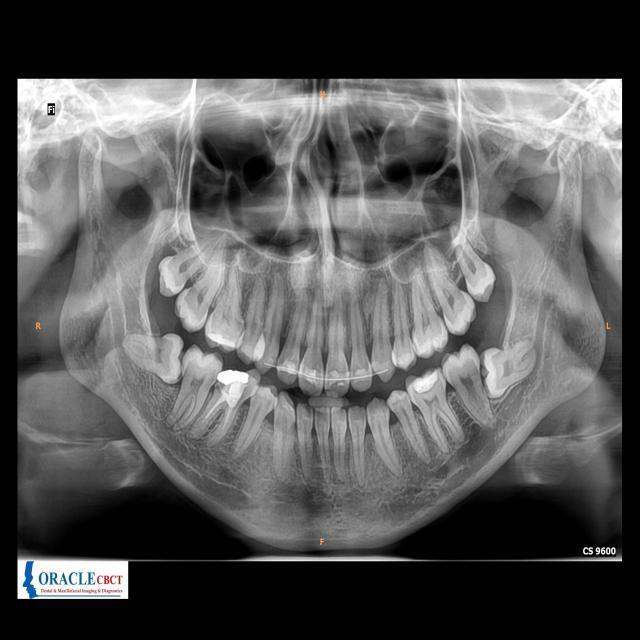dolgu: (216, 364, 253, 401)
kanal-tedavisi: (201, 400, 232, 435)
